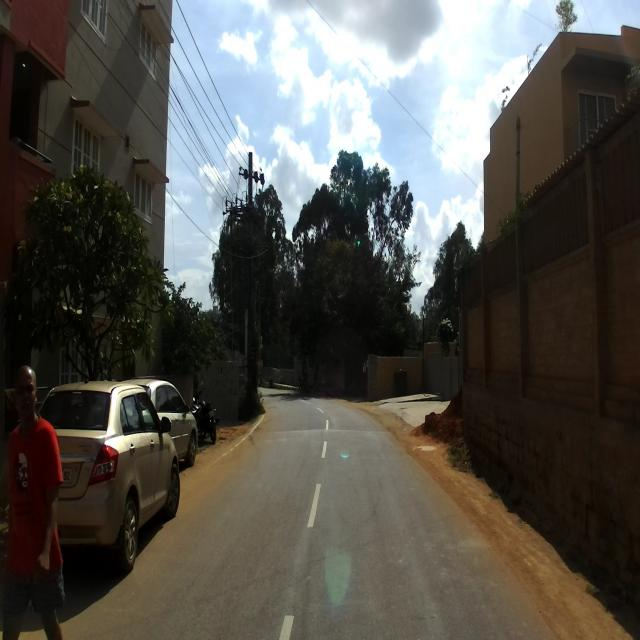car: (32, 378, 181, 573)
motorcycle: (190, 380, 219, 444)
